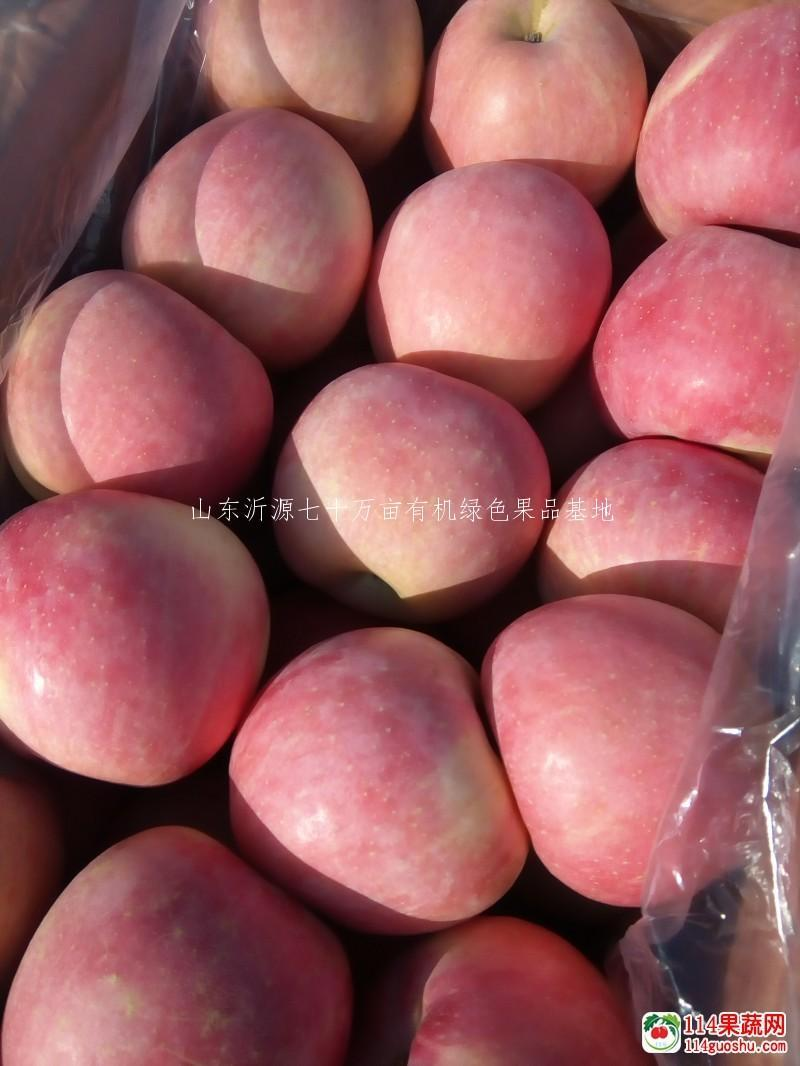apple: (231, 607, 534, 918), (489, 546, 741, 900), (10, 812, 350, 1064), (1, 485, 271, 778), (267, 359, 550, 618), (122, 105, 382, 374), (368, 159, 611, 415), (586, 219, 794, 453), (430, 13, 671, 208), (535, 441, 764, 614), (634, 1, 797, 236), (399, 921, 637, 1063)
